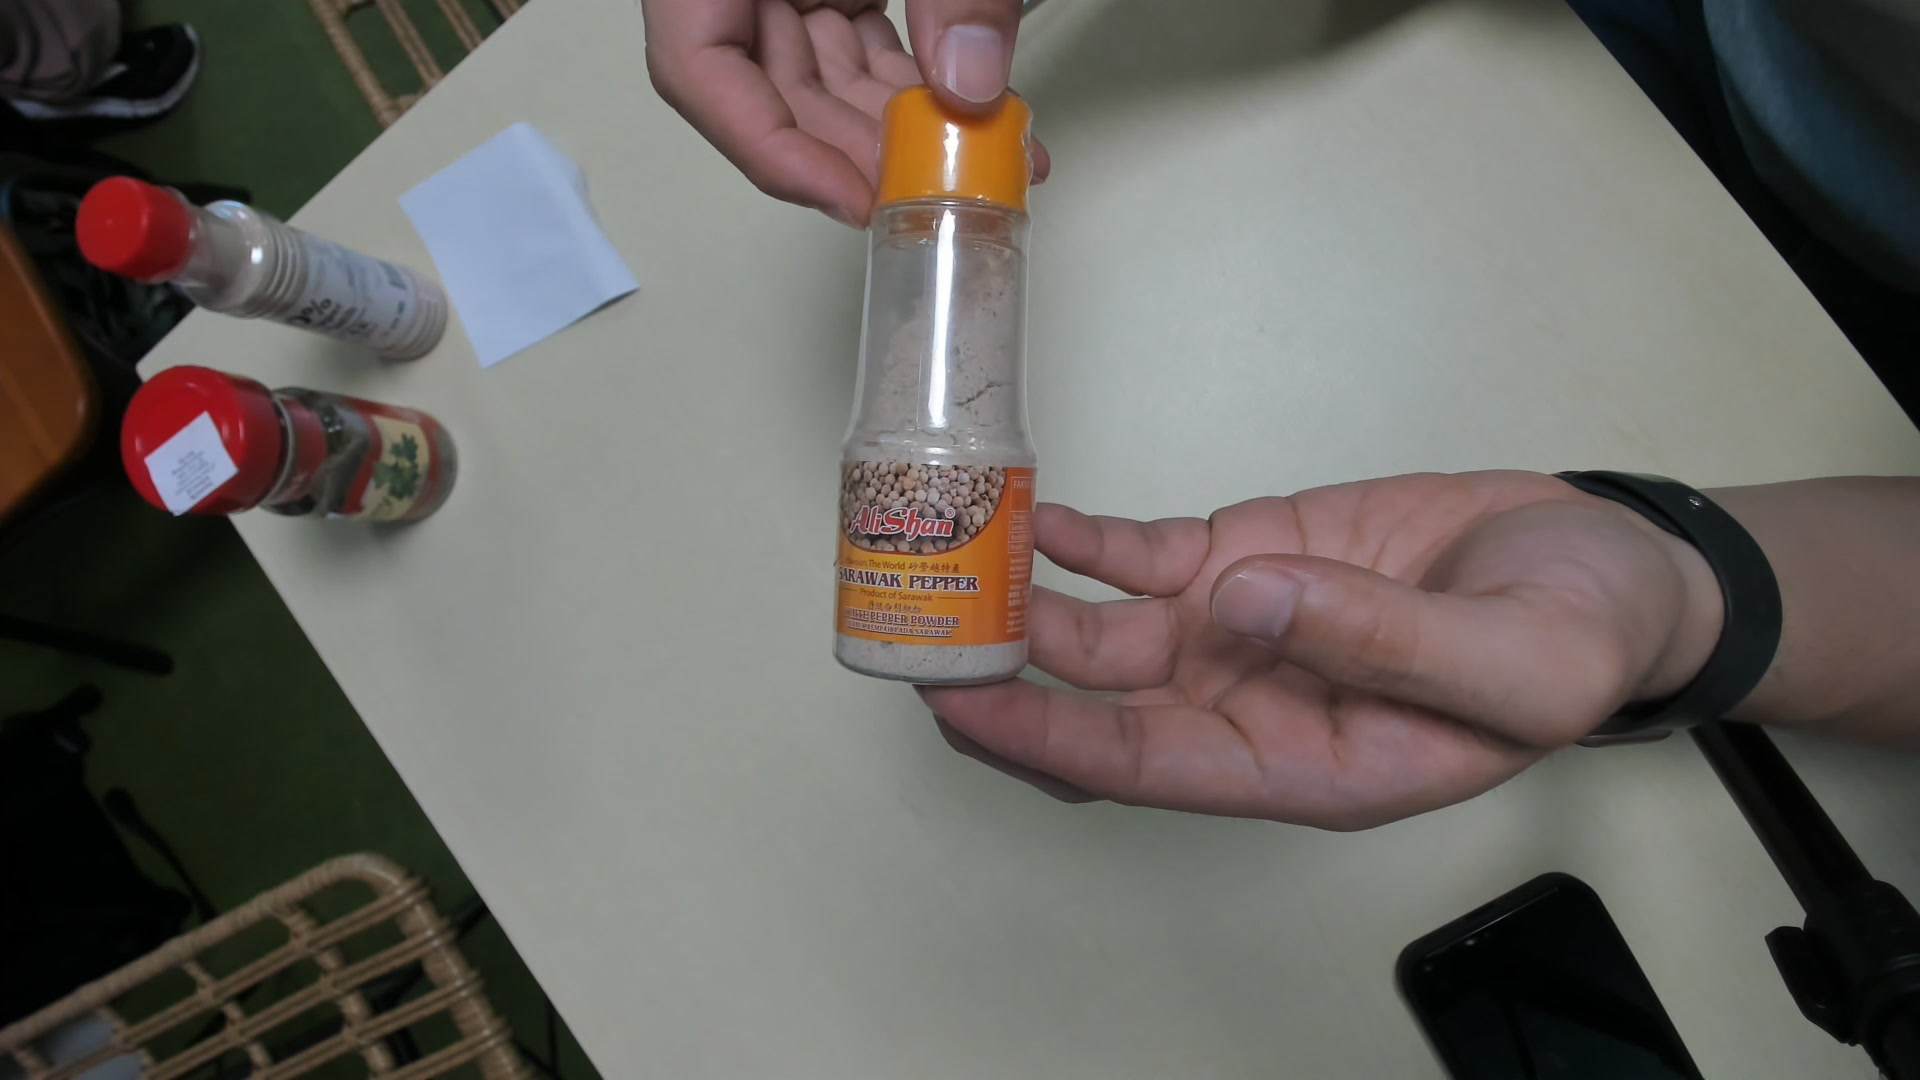HerbsSpicesPepper_400-499g_Halal_NonHealthy: (831, 90, 1046, 684)
